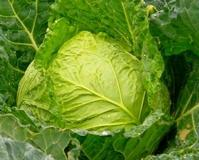cabbage: (17, 19, 171, 153)
